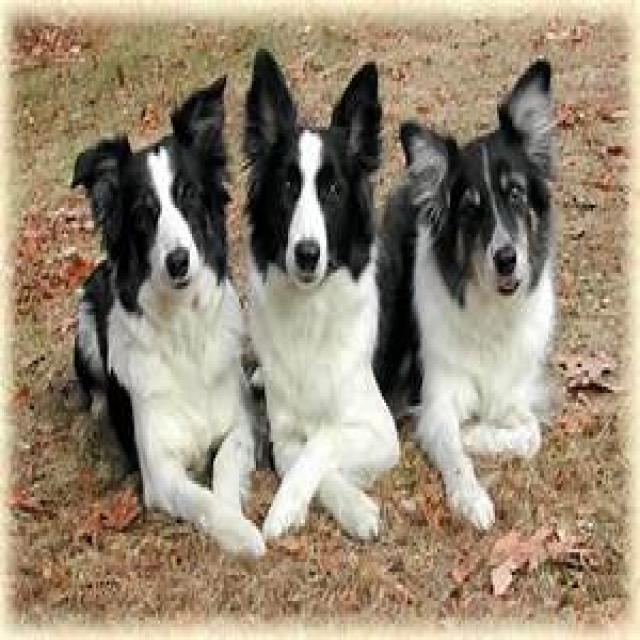dog: (70, 75, 267, 562), (373, 62, 561, 536), (241, 52, 399, 543)
